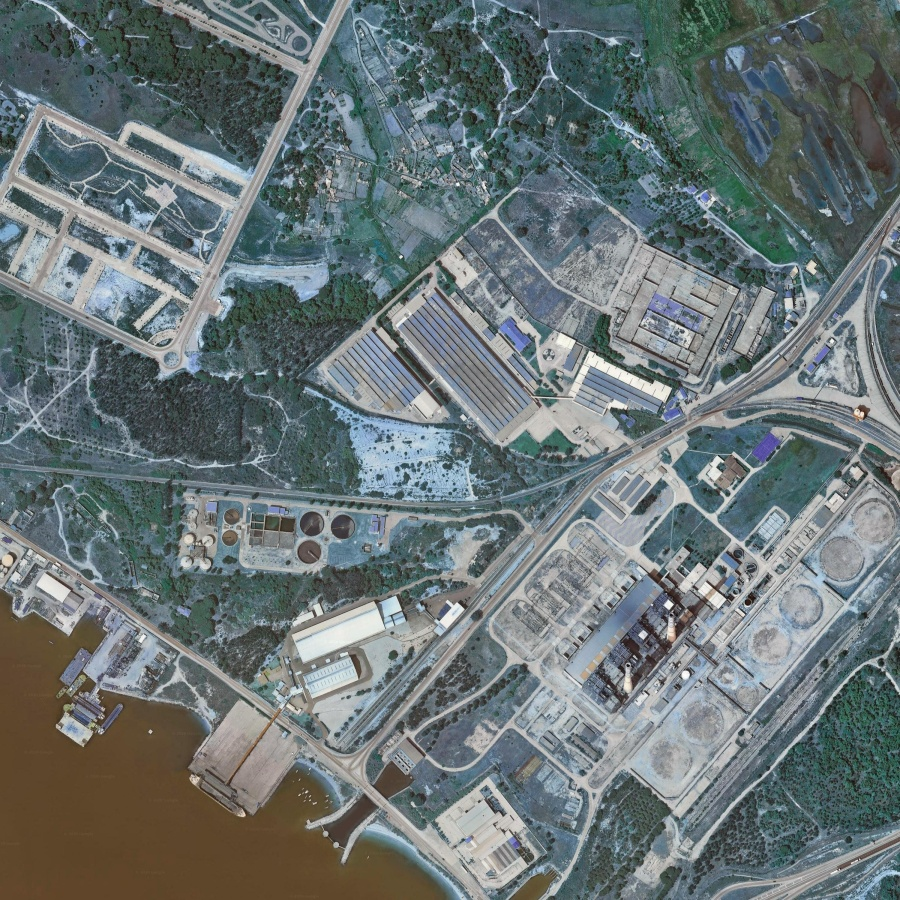PowerPlant: (524, 446, 898, 786)
